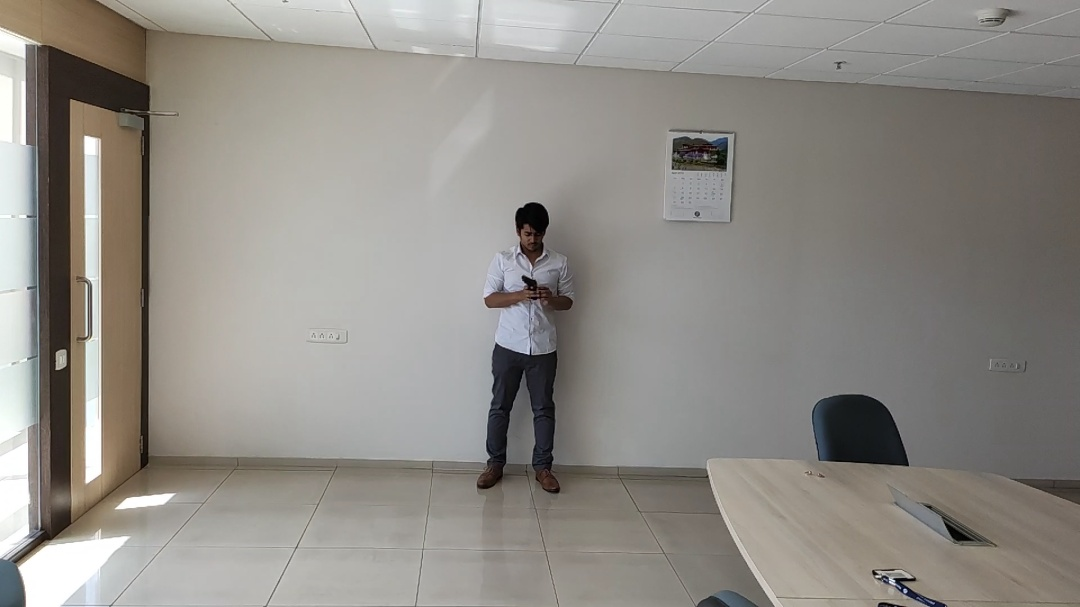gun: (521, 274, 537, 289)
